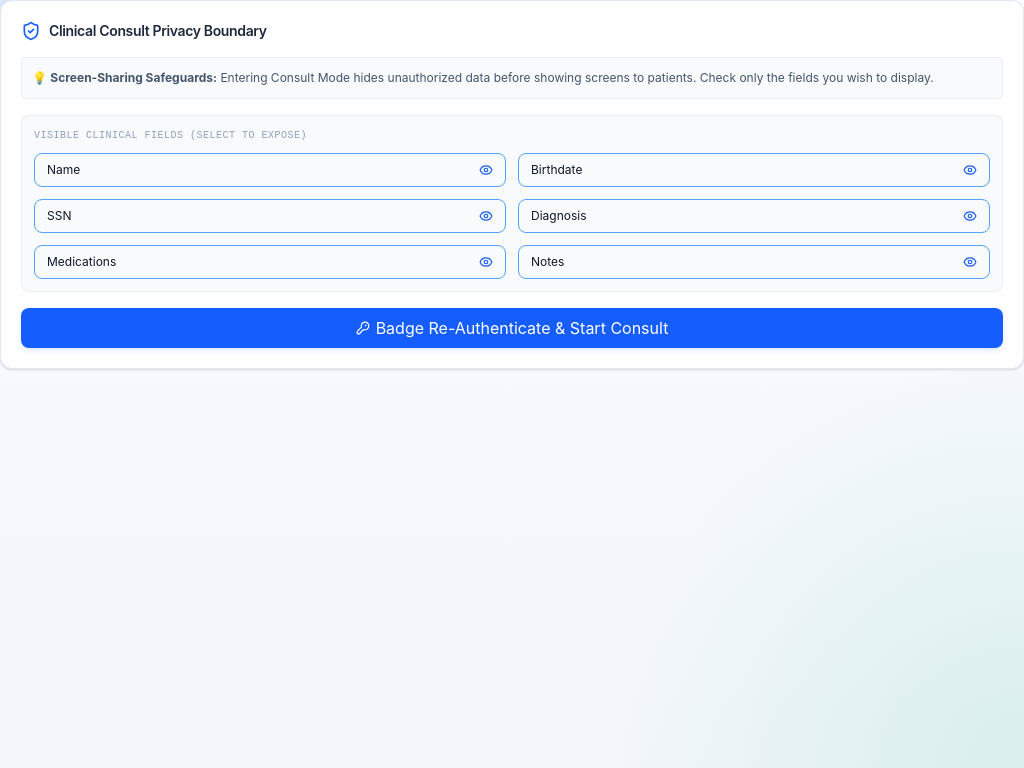
Test case: ConsultModeManager › requires the clinical PIN before activating consult mode
Click the button "Badge Re-Authenticate & Start Consult". click: (512, 328)
box: [21, 308, 1003, 348]
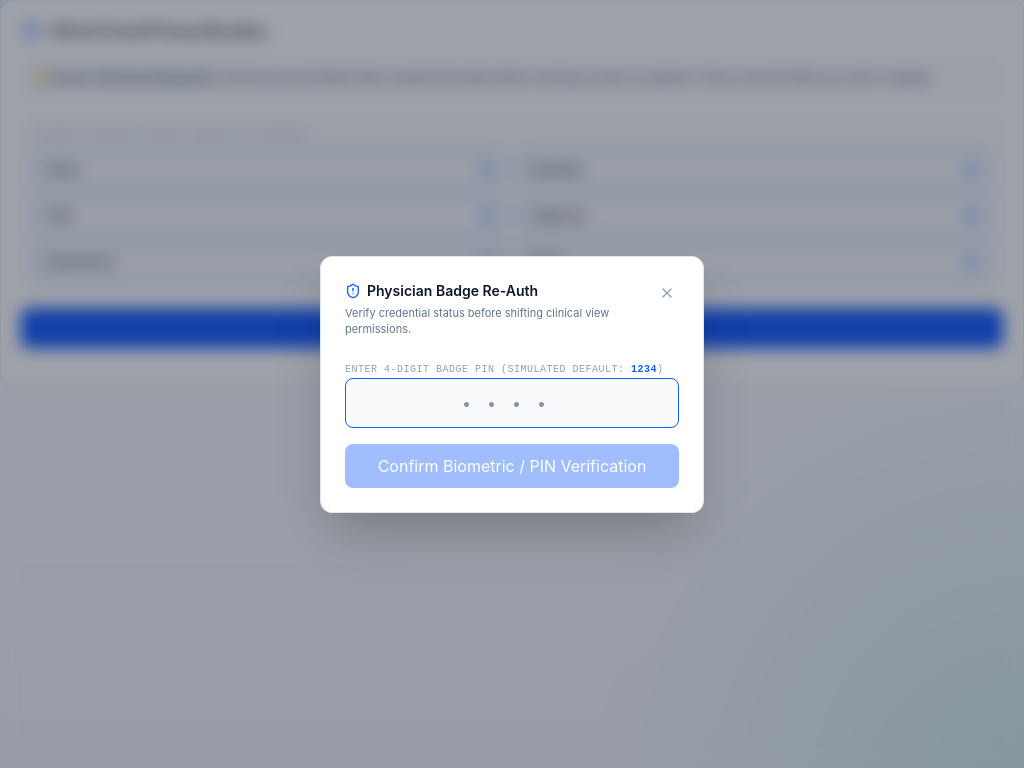
Type "9999" into the password field with placeholder "••••". click: (512, 402)
box: [345, 378, 679, 428]
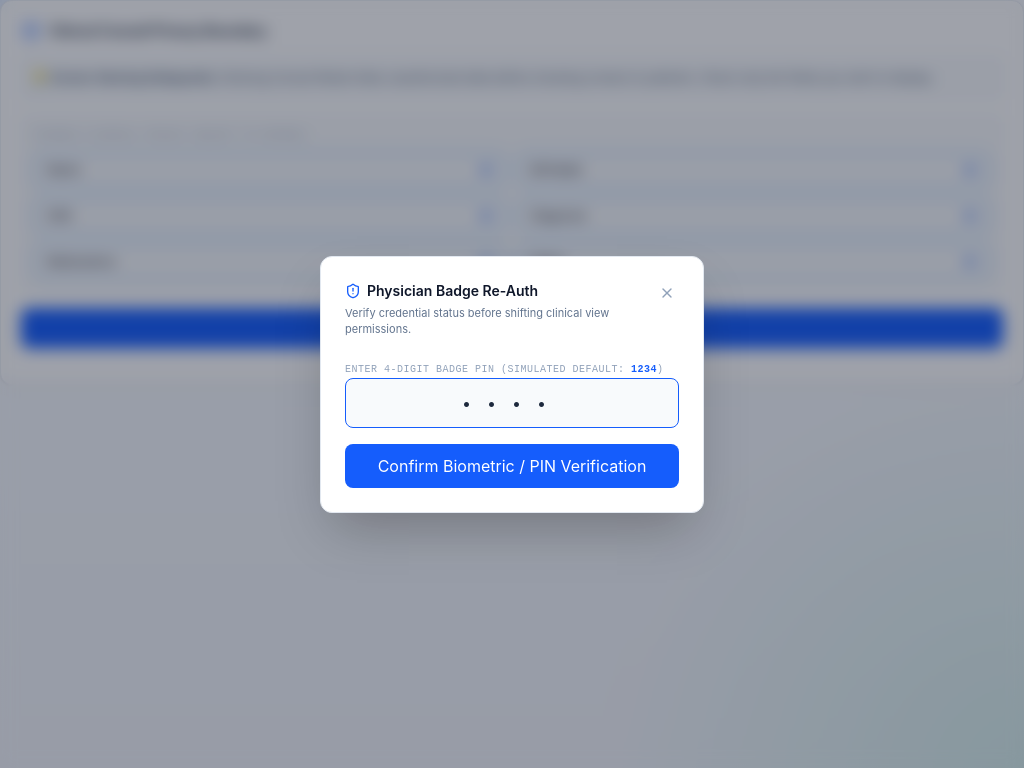
Click the button "Confirm Biometric / PIN Verification". click: (512, 466)
box: [345, 444, 679, 488]
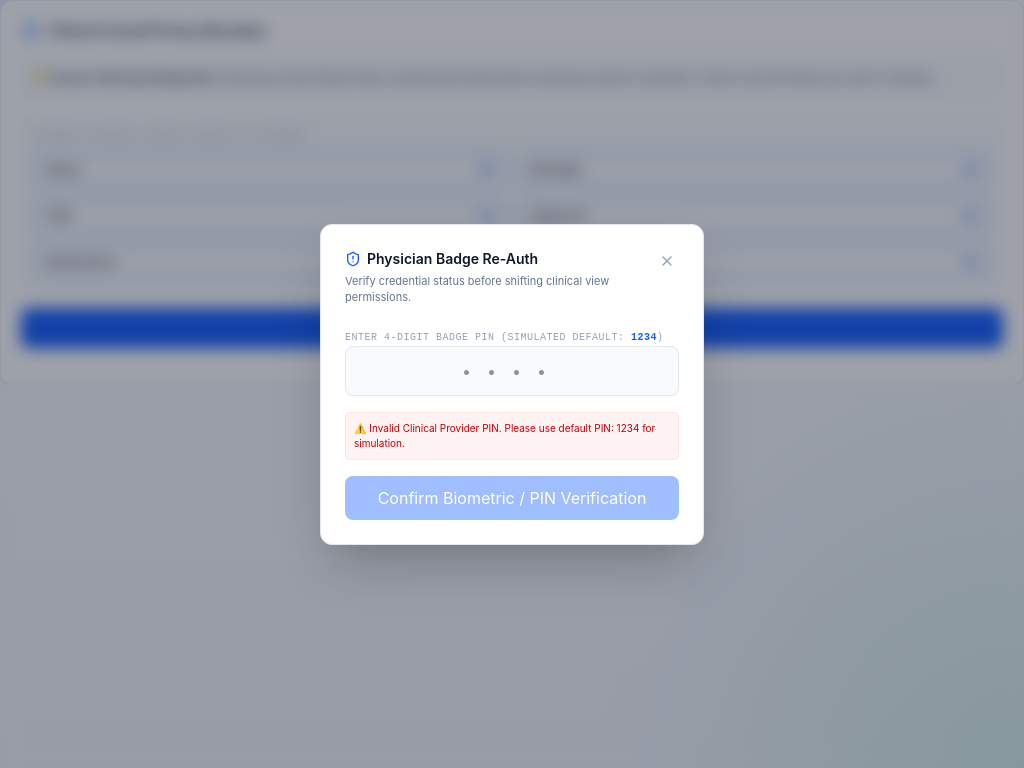
Now the text "Invalid Clinical Provider PIN" is shown, box [354, 422, 655, 448]
